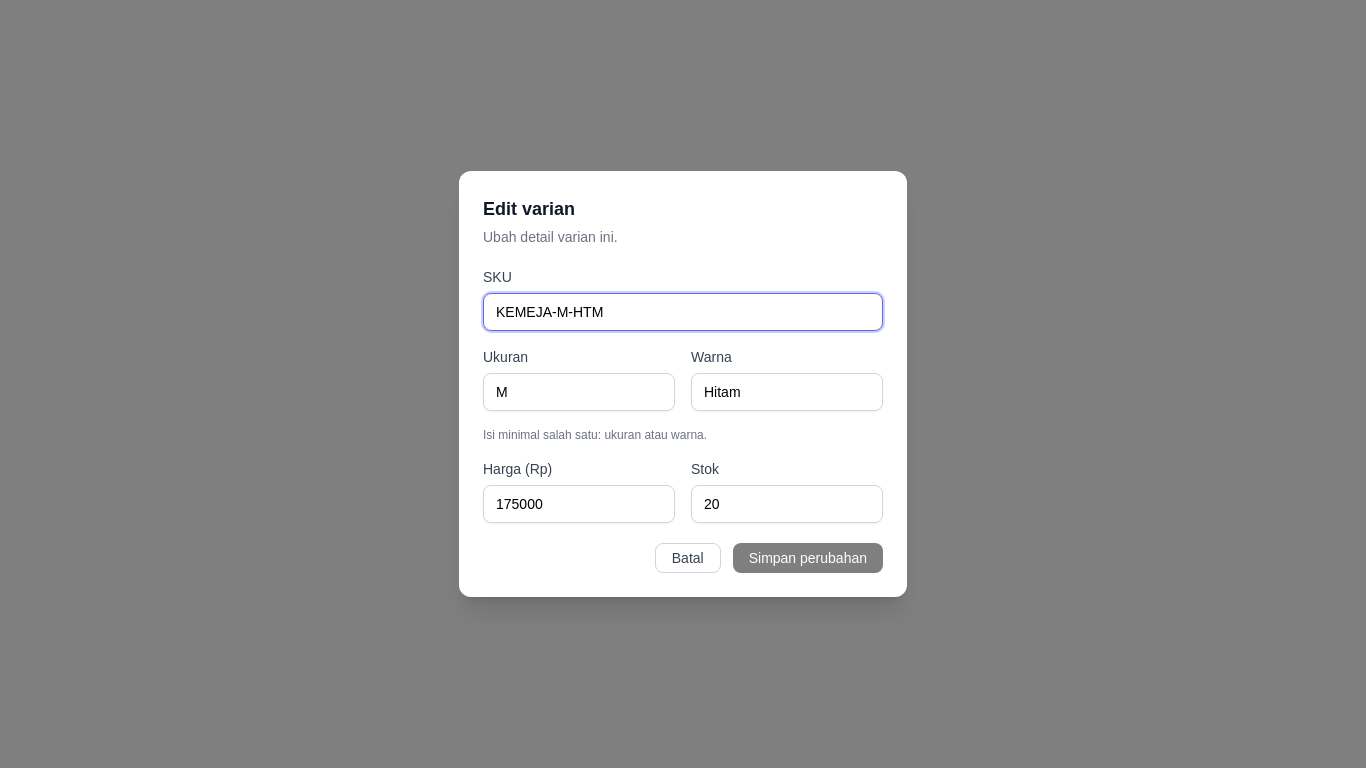
it: VariantEditModal › Validasi Client-Side (Zod) › menampilkan error jika SKU dikosongkan
Clear the field labelled "SKU": (683, 312) [483,293,883,331]
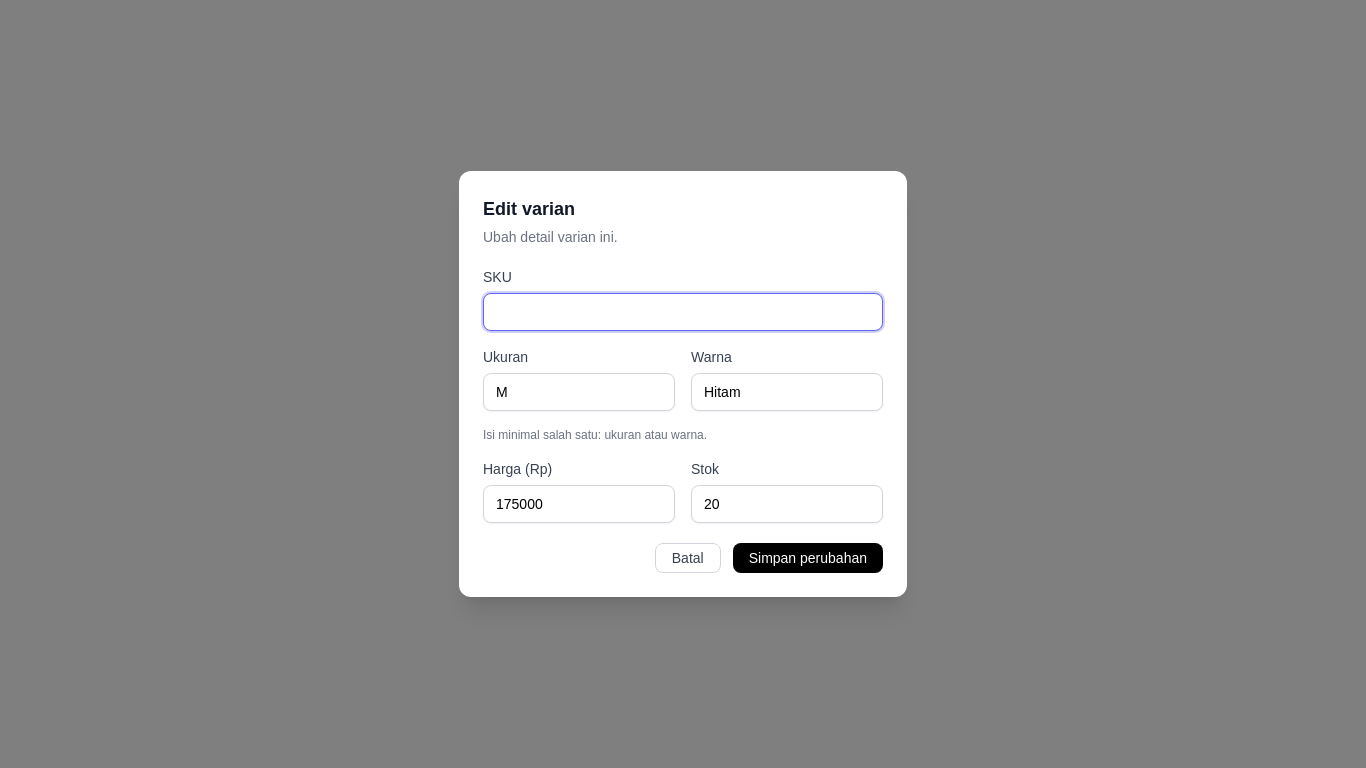
Click the button "Simpan perubahan": click(808, 558) [733,543,883,573]
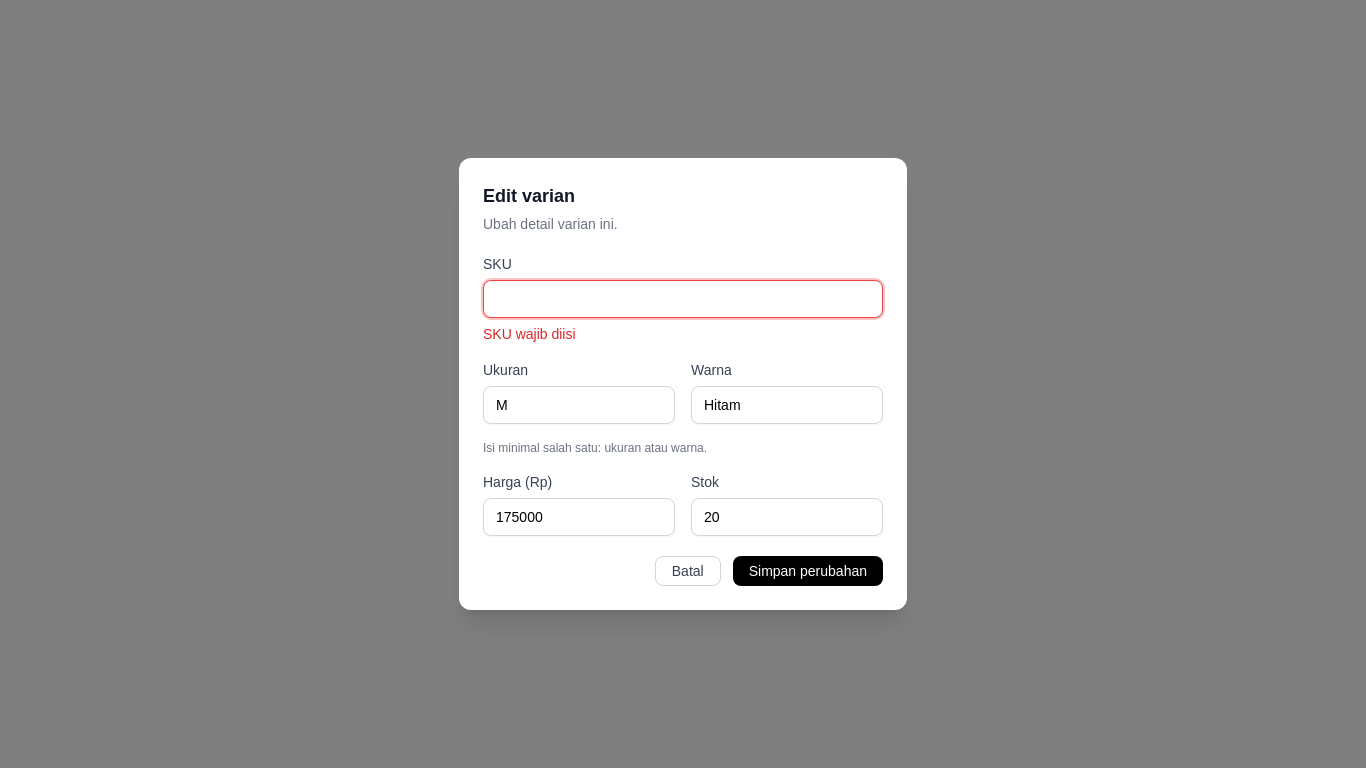
Result: the text "SKU wajib diisi" is shown at [483,326,576,342]
